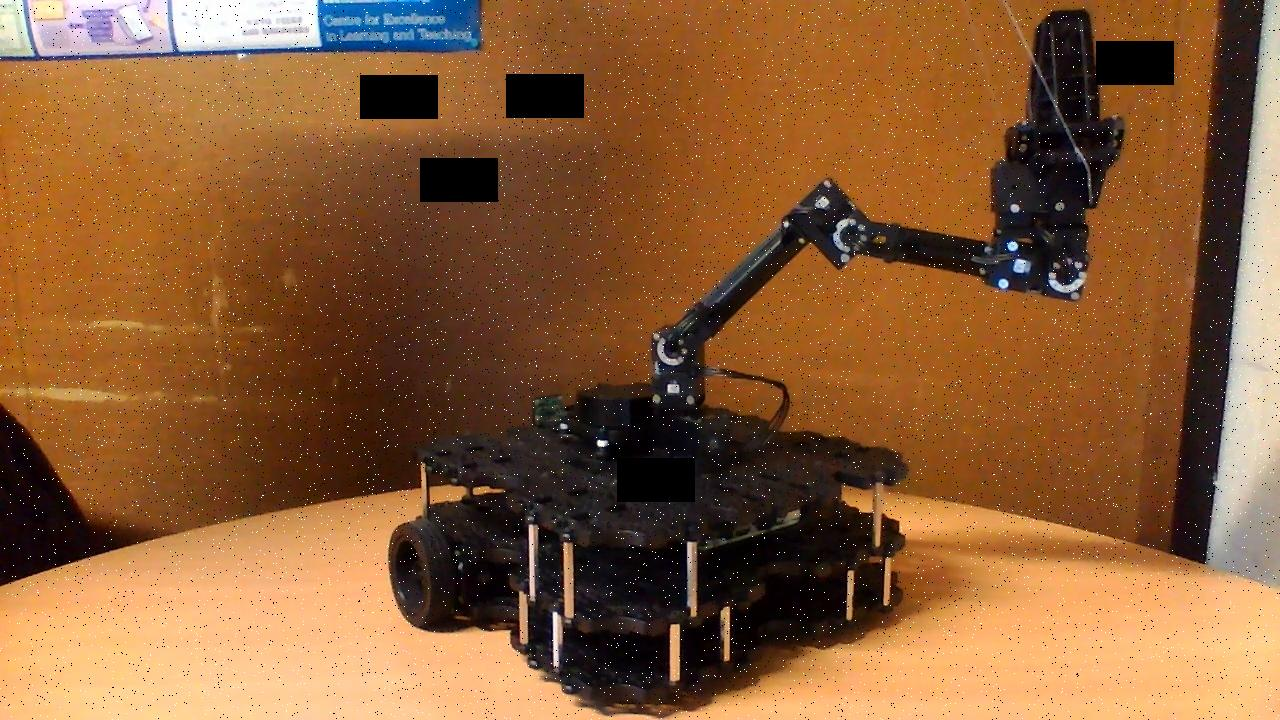Arm: (650, 178, 866, 375)
Hand: (984, 6, 1132, 241)
Wrist: (832, 210, 1096, 305)
base: (385, 380, 913, 702)
